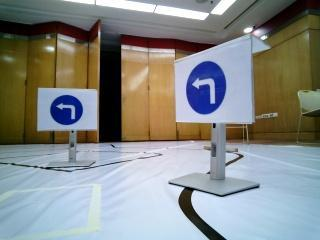left: (175, 60, 249, 126), (39, 91, 98, 131)
